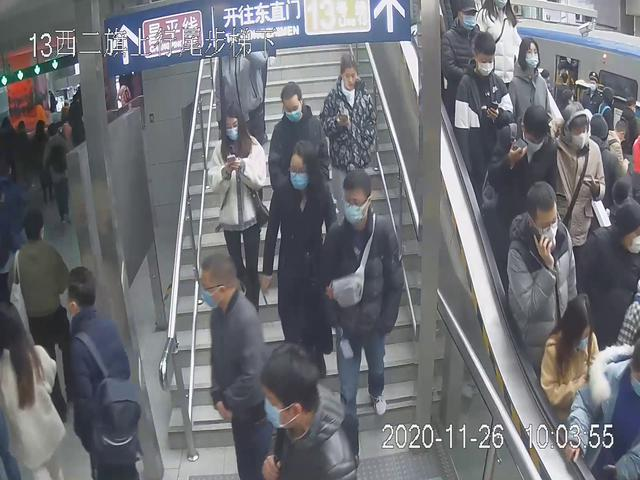person: (316, 166, 407, 420), (263, 138, 343, 396), (194, 252, 279, 480), (60, 262, 143, 480), (505, 180, 578, 394), (204, 105, 268, 327), (486, 102, 560, 276), (538, 100, 606, 284), (319, 50, 379, 239), (452, 32, 515, 210)
